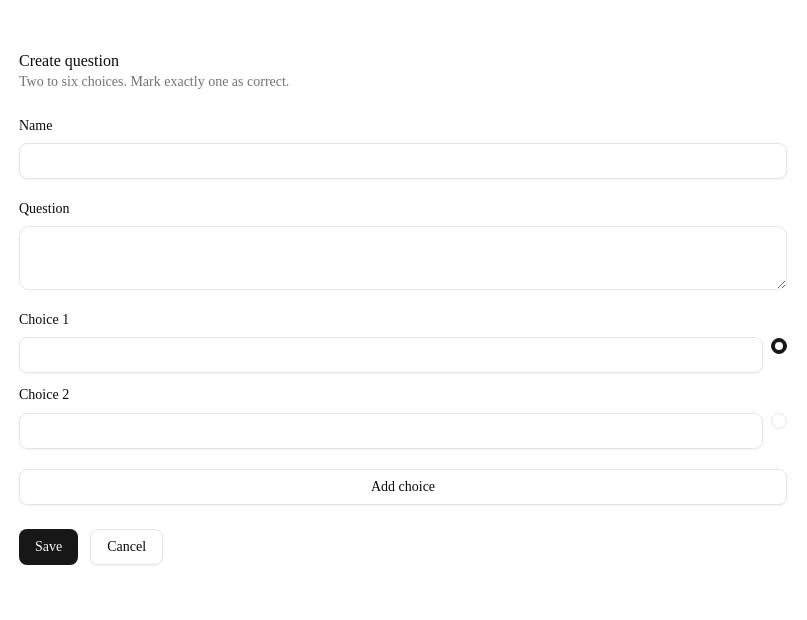
it: create question page › lets a choice row be removed only when more than two remain
Expected: the button "remove choice" is not shown
Click the button "Add choice" at (403,486), box top-left (19, 468), bottom-right (787, 504)
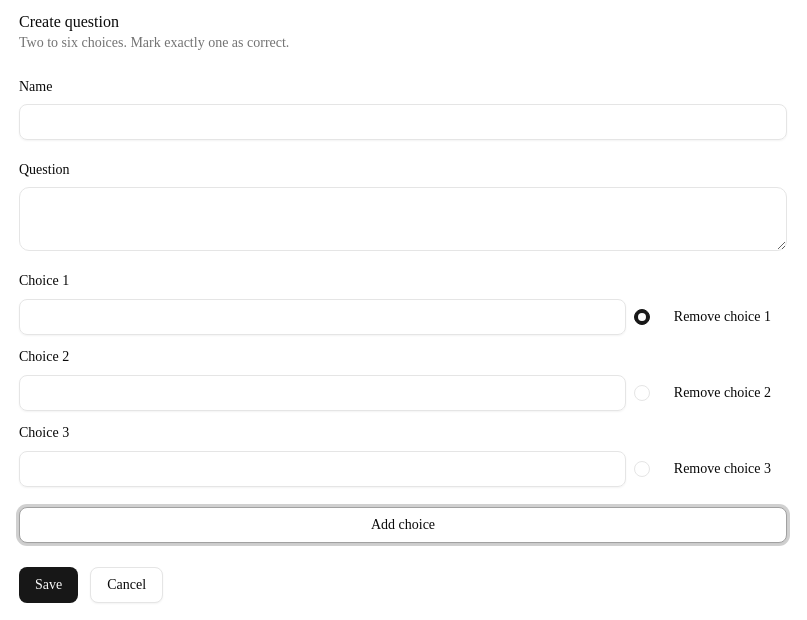
Now the field labelled "Choice 3" is shown, box top-left (19, 450), bottom-right (626, 486)
Now the number of buttons "Remove choice 1" is 3
Click the button "Remove choice 3" at (722,469), box top-left (658, 451), bottom-right (787, 487)
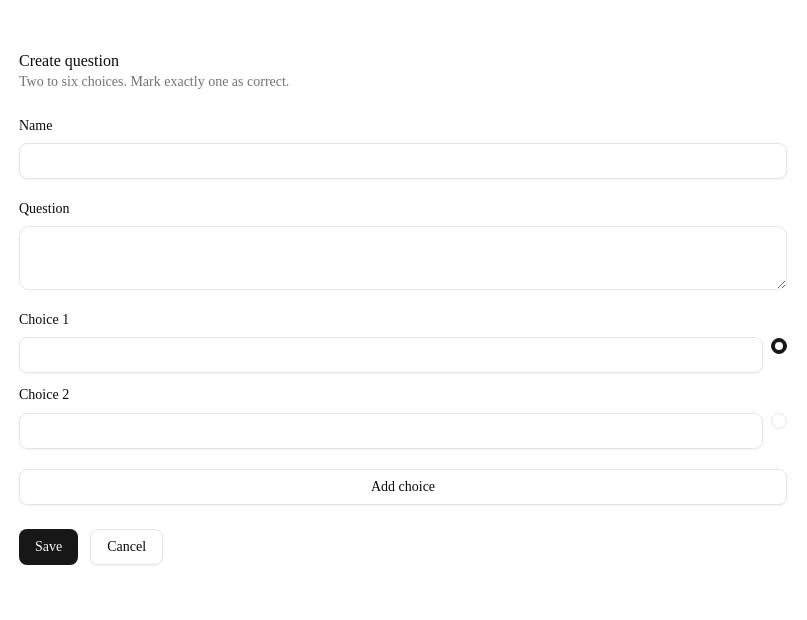
Now the label labelled "Choice 3" is gone
Now the button "Remove choice" is gone
